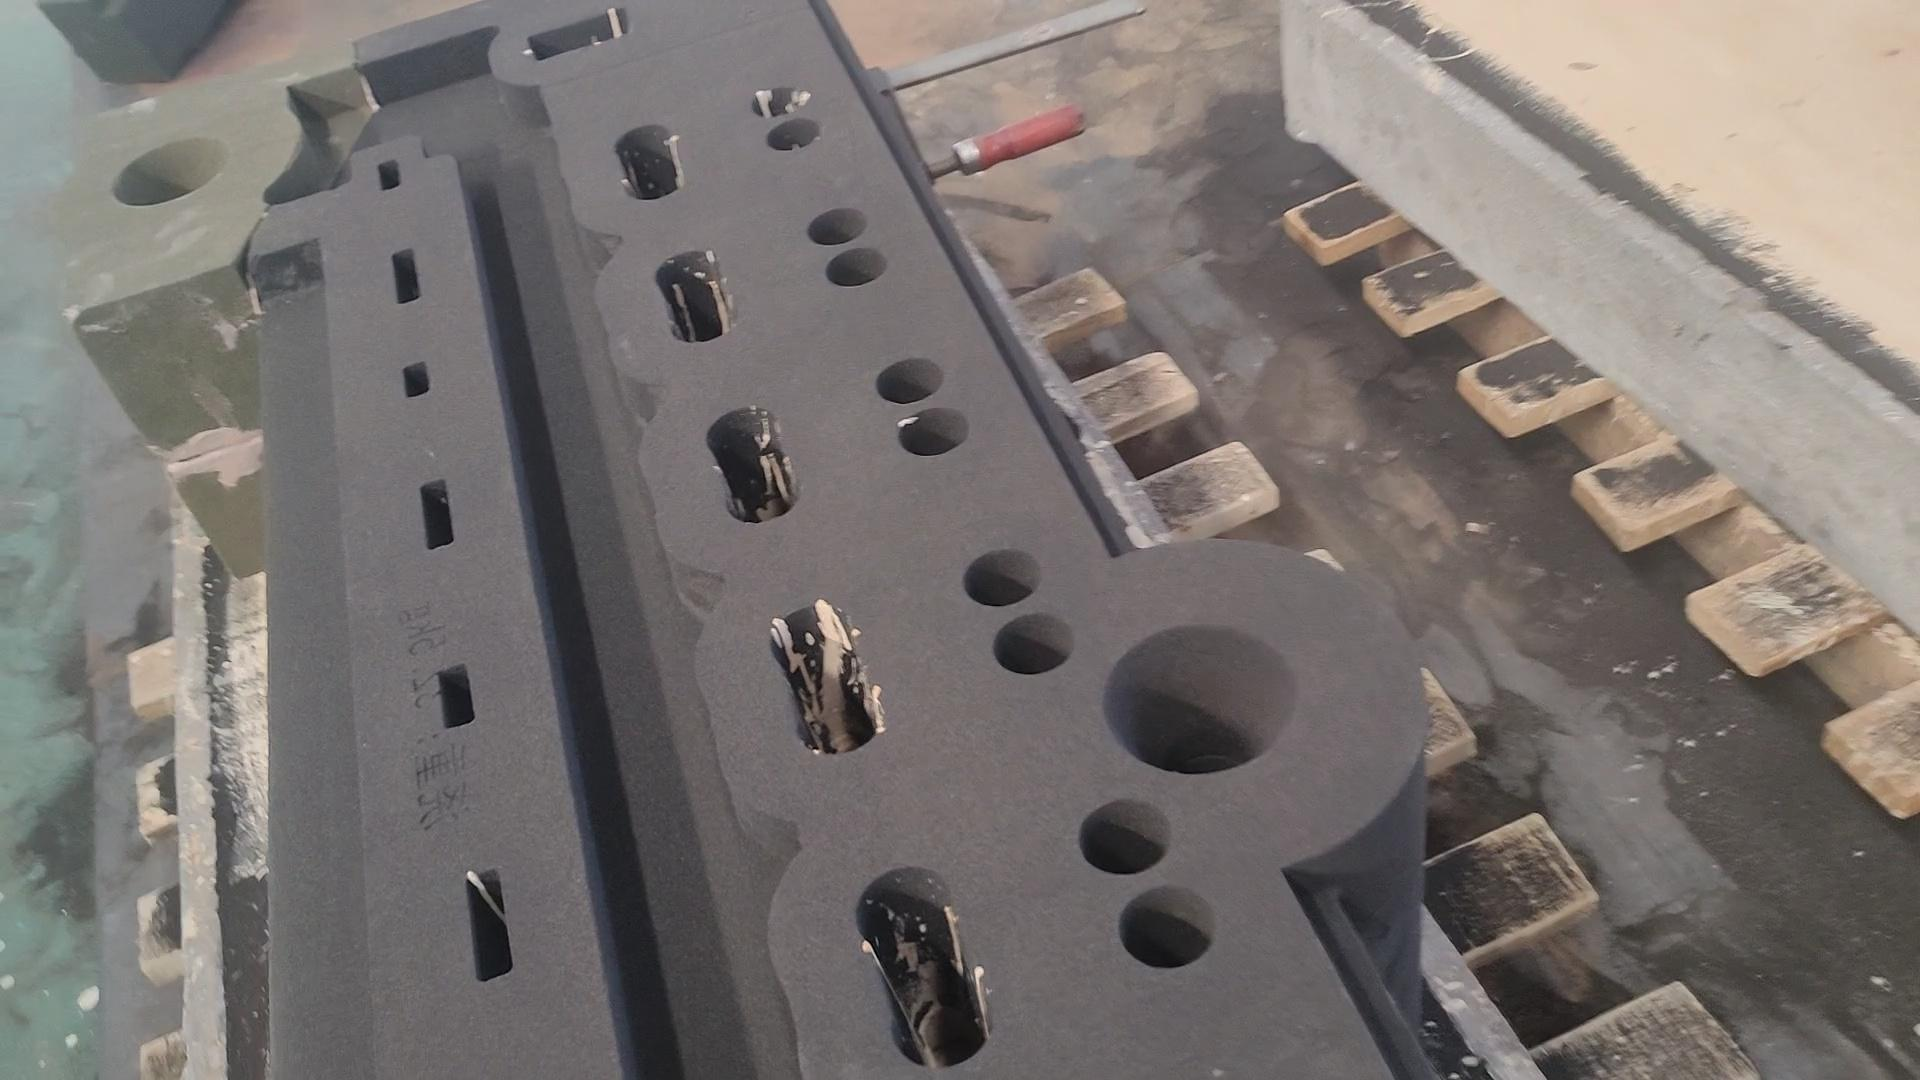pouring hole: (1102, 622, 1298, 775), (109, 135, 229, 206)
